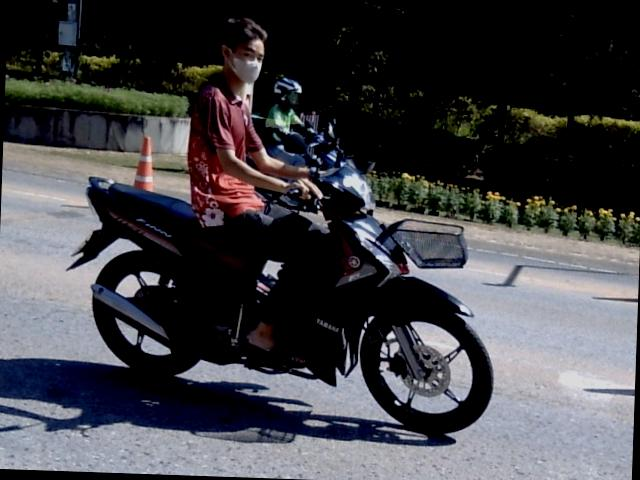helmet: (273, 77, 301, 108)
motor: (67, 160, 493, 434), (280, 119, 352, 168)
no-helmet: (218, 18, 267, 86)
person: (188, 16, 334, 367), (262, 77, 312, 164)
